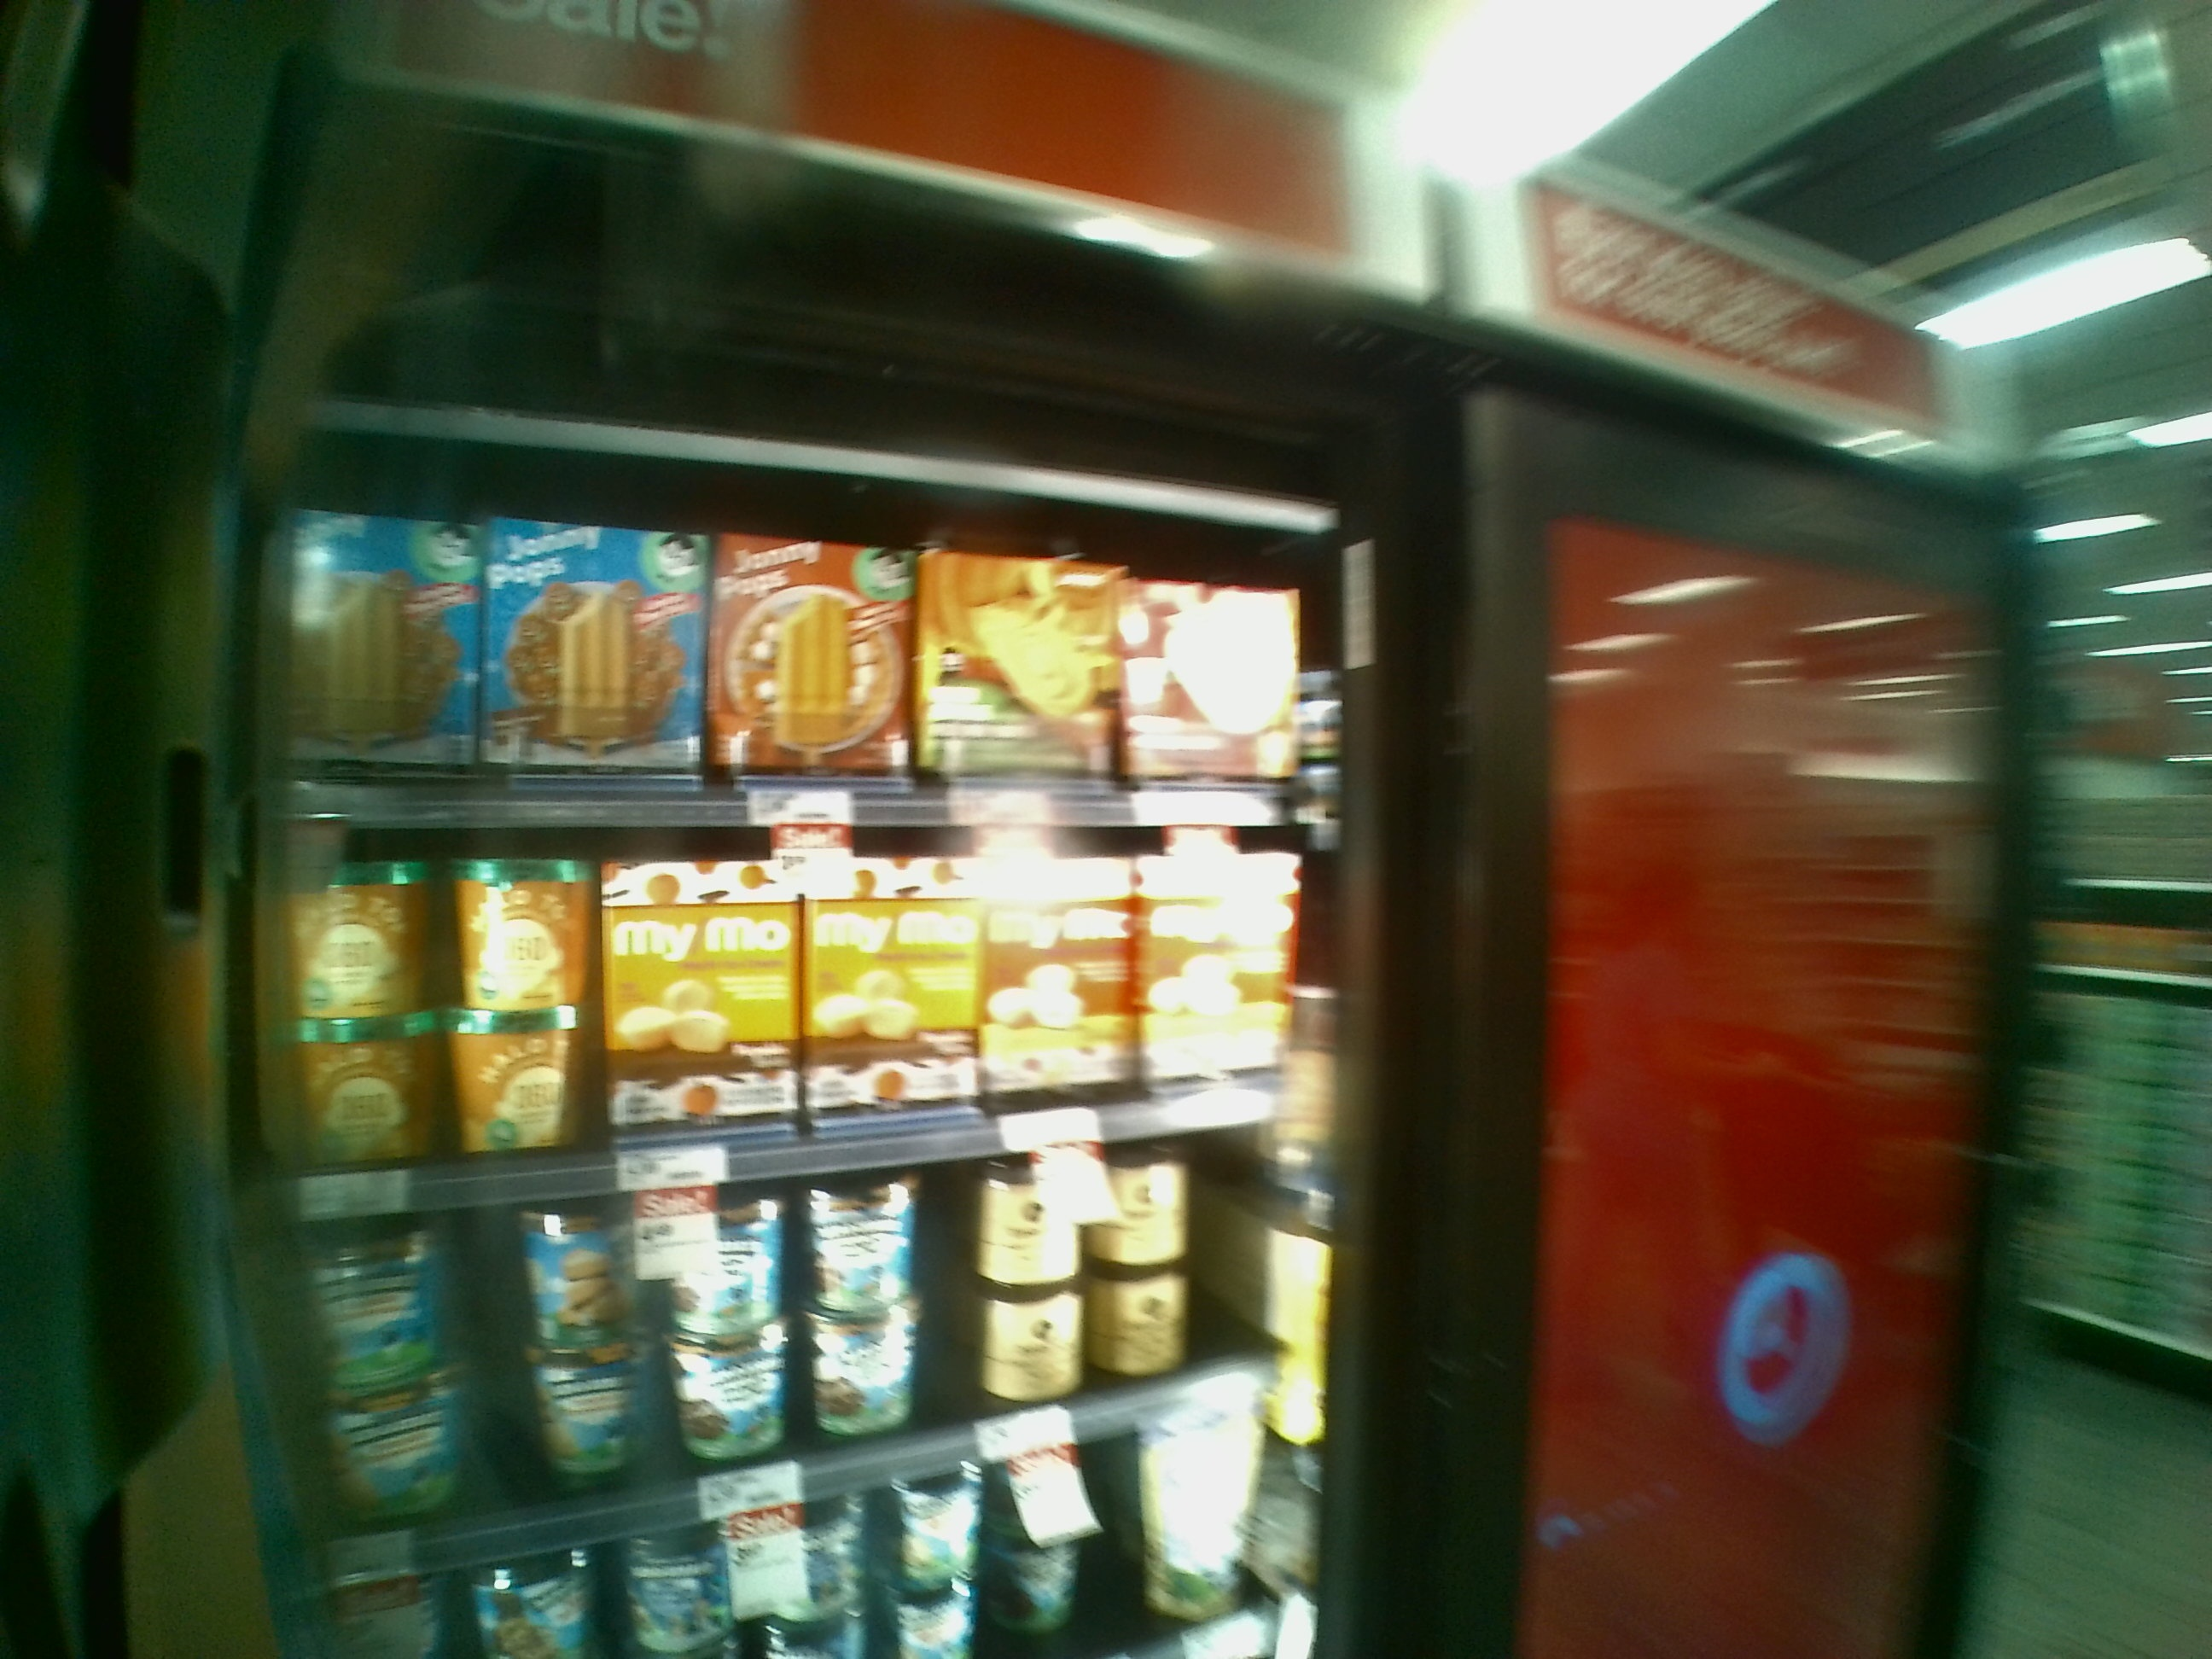shelf: (247, 796, 1332, 1185), (270, 437, 1325, 817)
